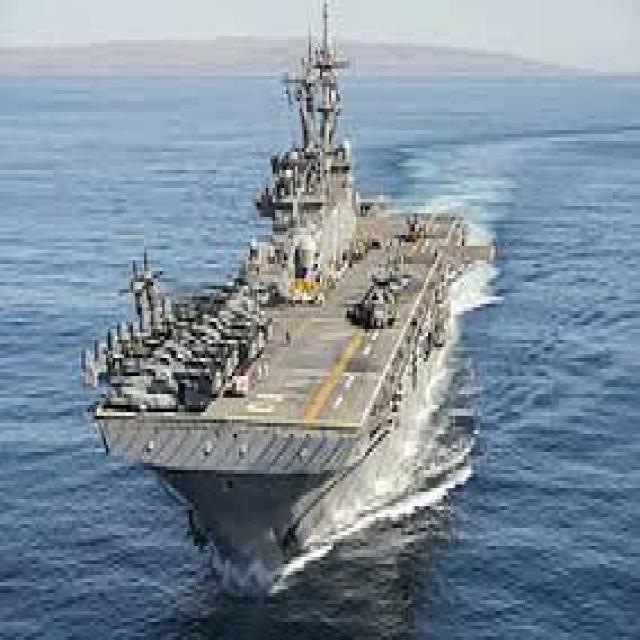navalvessels: (63, 63, 500, 544)
